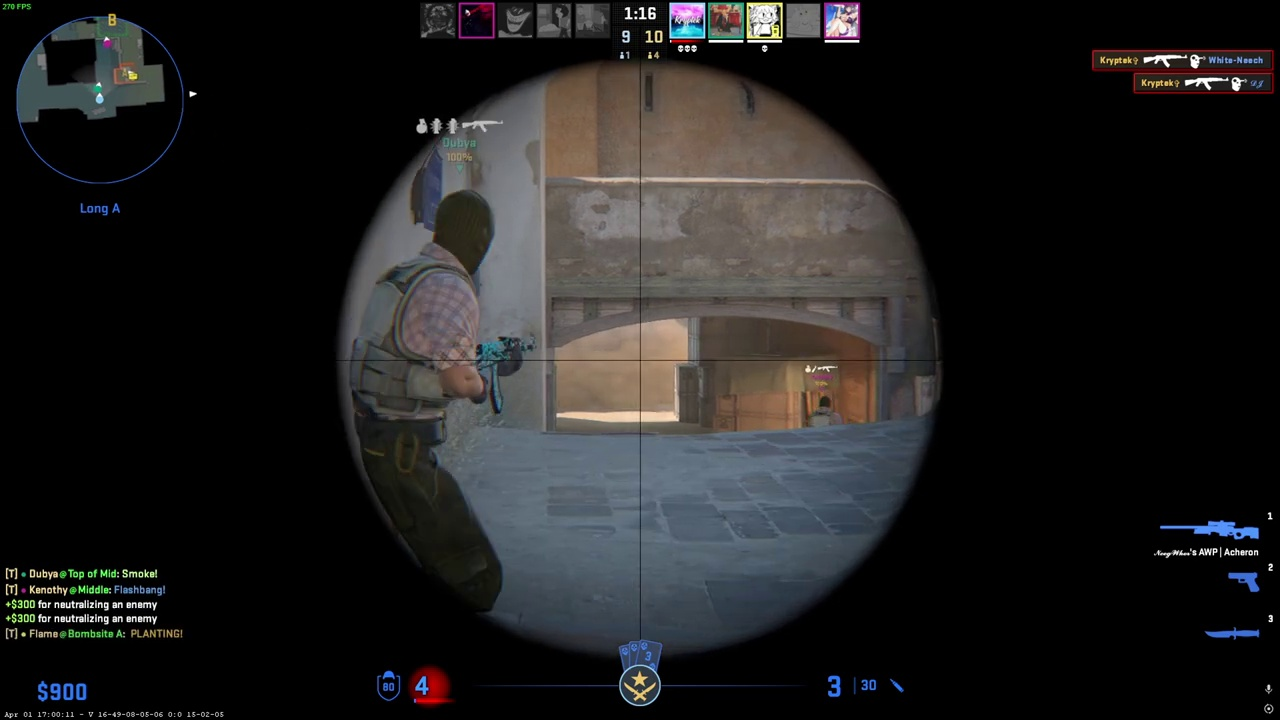Terrorist: (337, 189, 506, 654), (807, 395, 841, 427)
